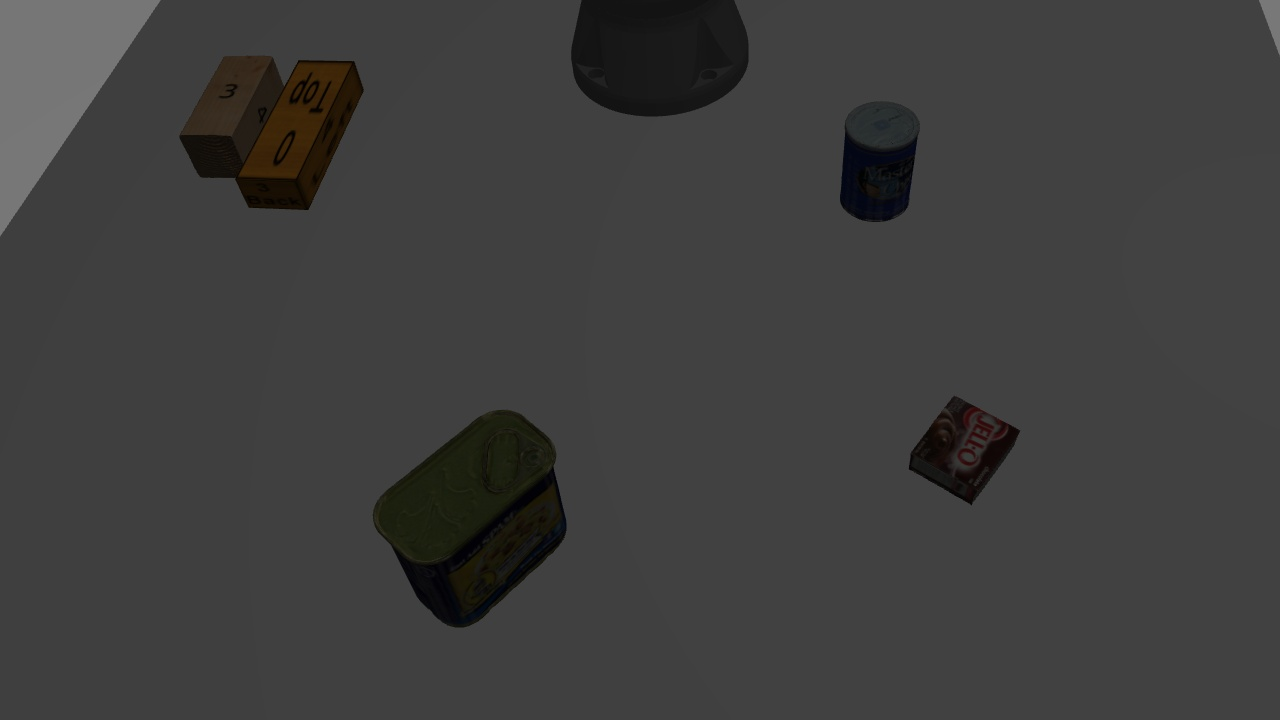jenga: (801, 125, 1027, 233)
master_chef_can: (212, 454, 375, 627)
potted_meat_can: (624, 479, 838, 653)
pudding_box: (1077, 324, 1187, 424)
wood_block: (642, 129, 800, 254)
